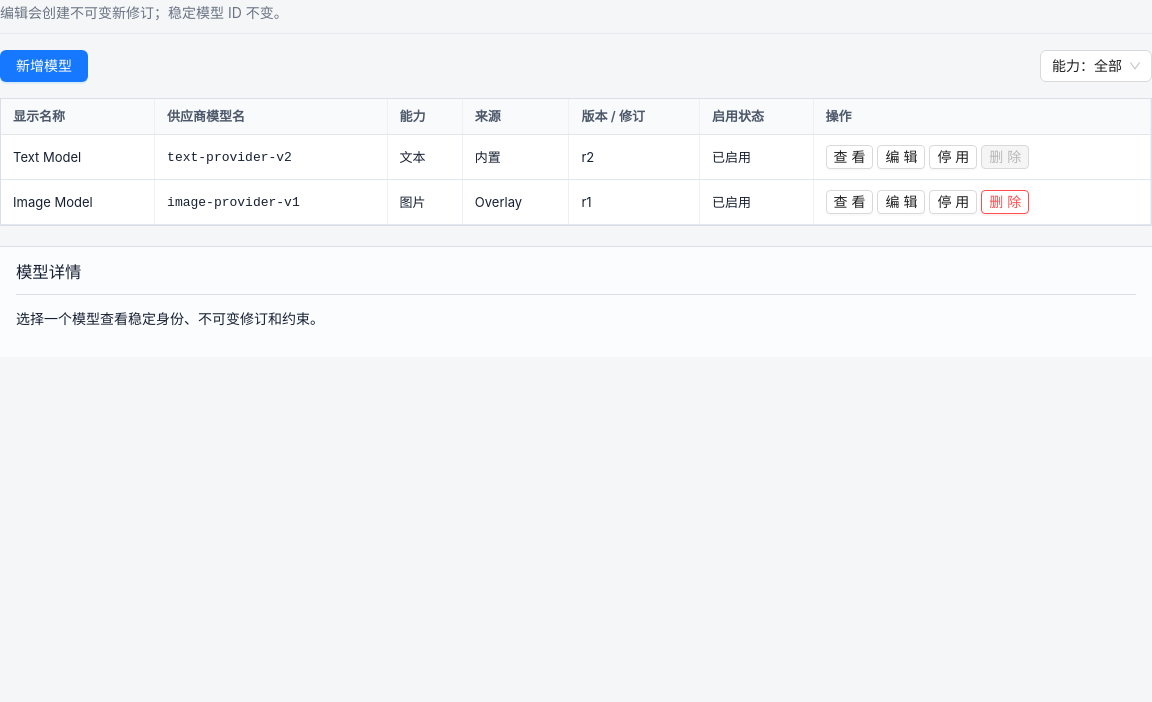
Test case: supplier models panel › renders stable identity table and selected model inspector
Expected: the cell "Text Model" is shown, [1, 135, 155, 180]
Expected: the column heading "显示名称" is shown, [1, 100, 155, 135]
Click the button named "查看 Text Model" at (849, 157), box [826, 145, 873, 169]
(page scrolled)
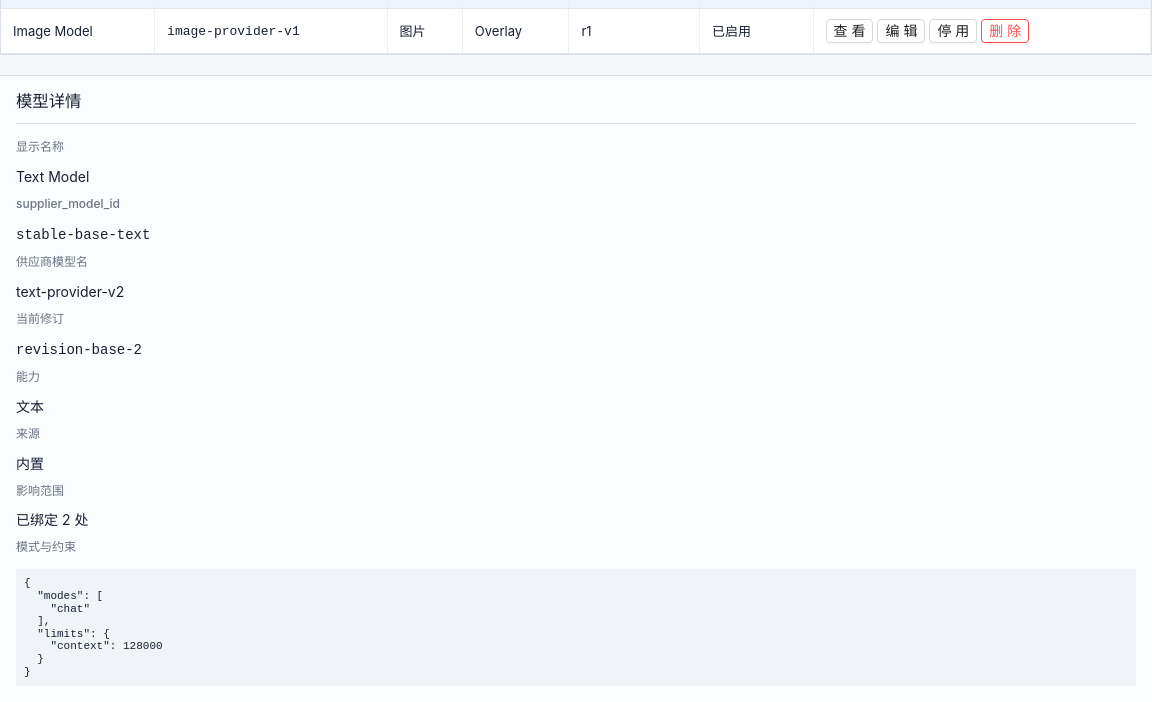
Expected: the text "stable-base-text" is shown, [16, 227, 150, 243]
Expected: the text "revision-base-2" is shown, [16, 342, 142, 358]
Expected: the text "已绑定 2 处" is shown, [16, 511, 88, 528]
